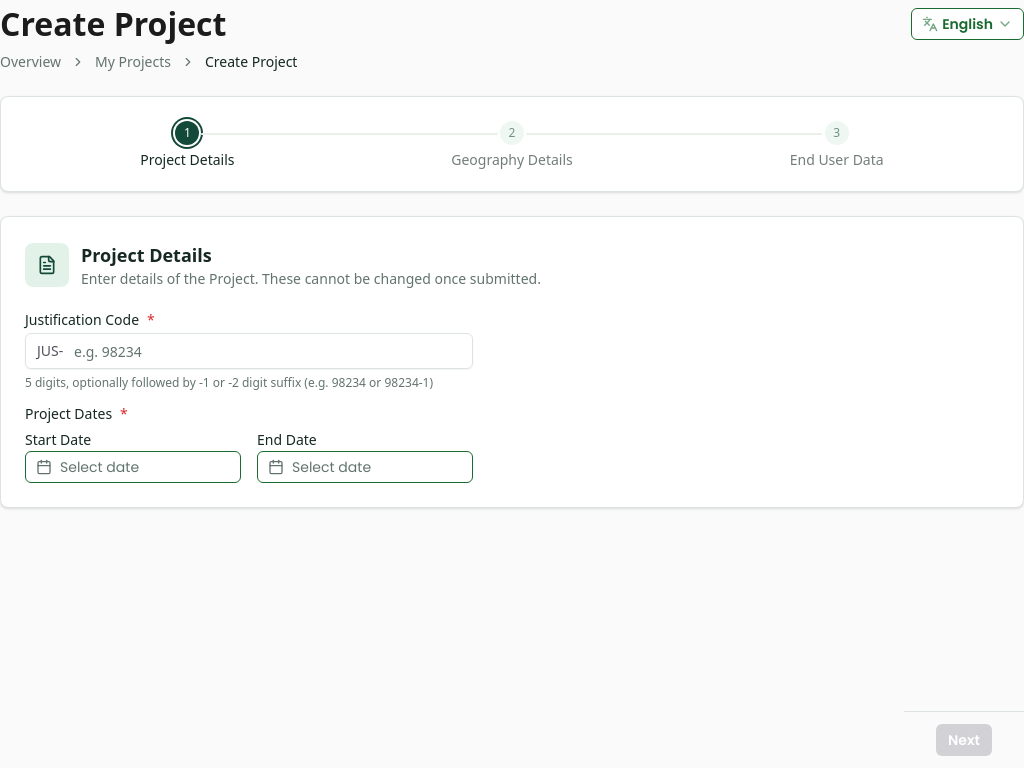
Test: CreateProjectPage › stays on step 1 and shows the error when the justification code is a duplicate
The image size is (1024, 768).
Type "98234" into the field labelled "Justification Code *" at (249, 351), box [25,333,473,369]
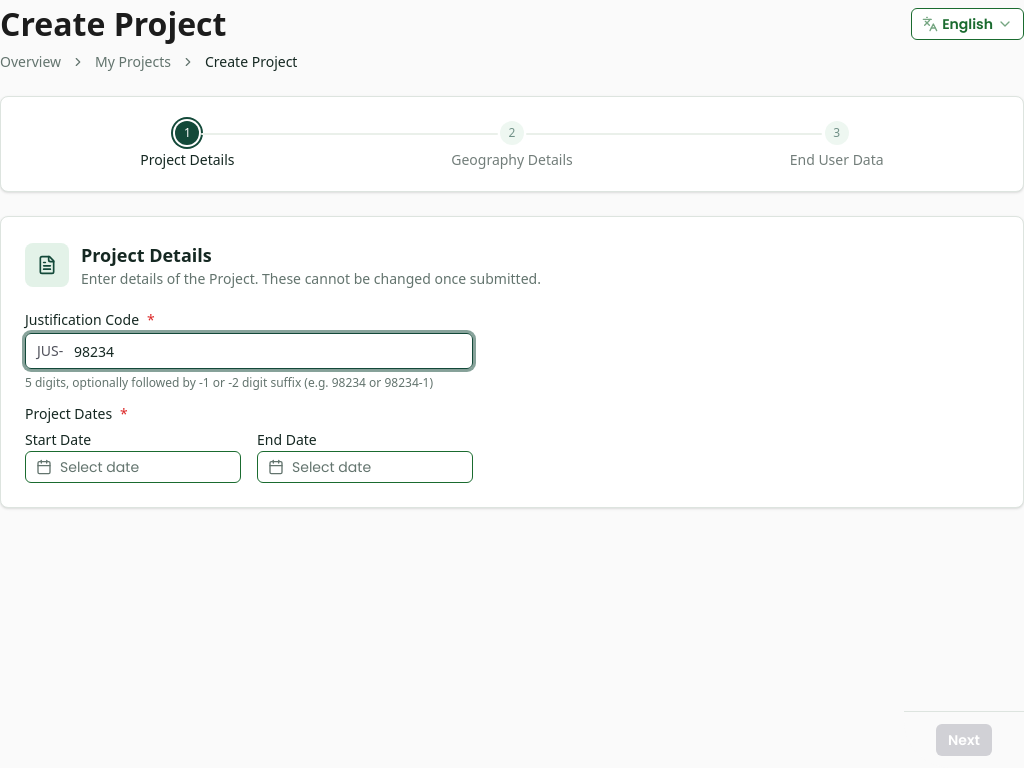
Click the button "Select date" below "Start Date" at (133, 467), box [25,451,241,483]
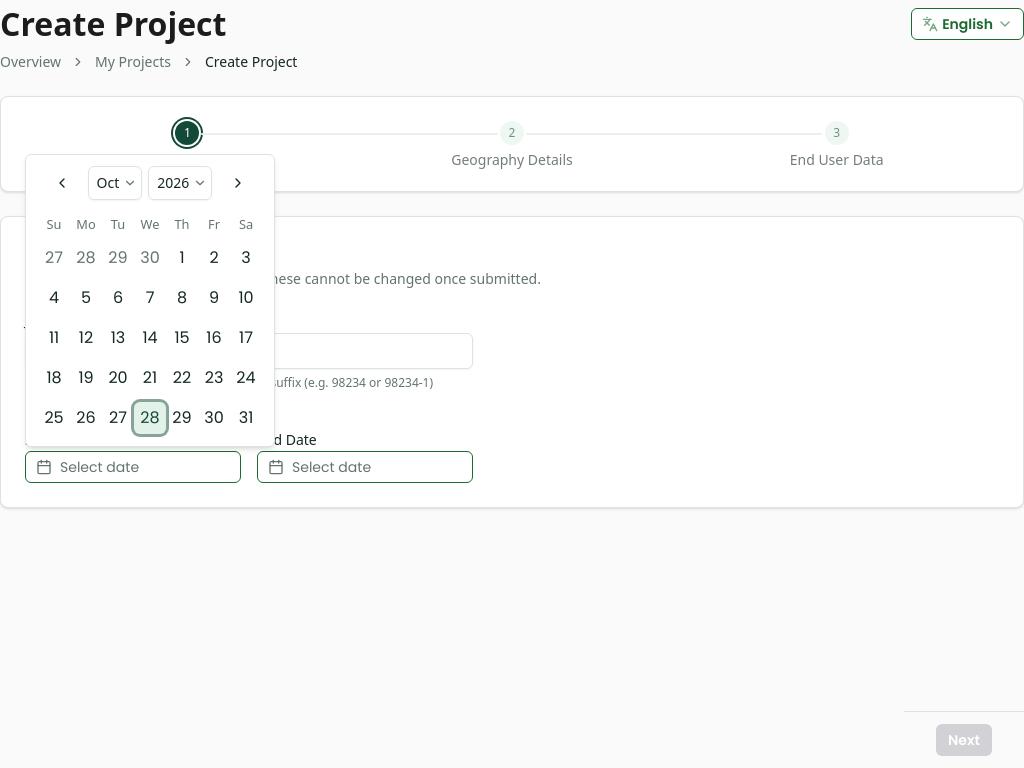
Click the button "10" at (246, 298), box [230,282,262,314]
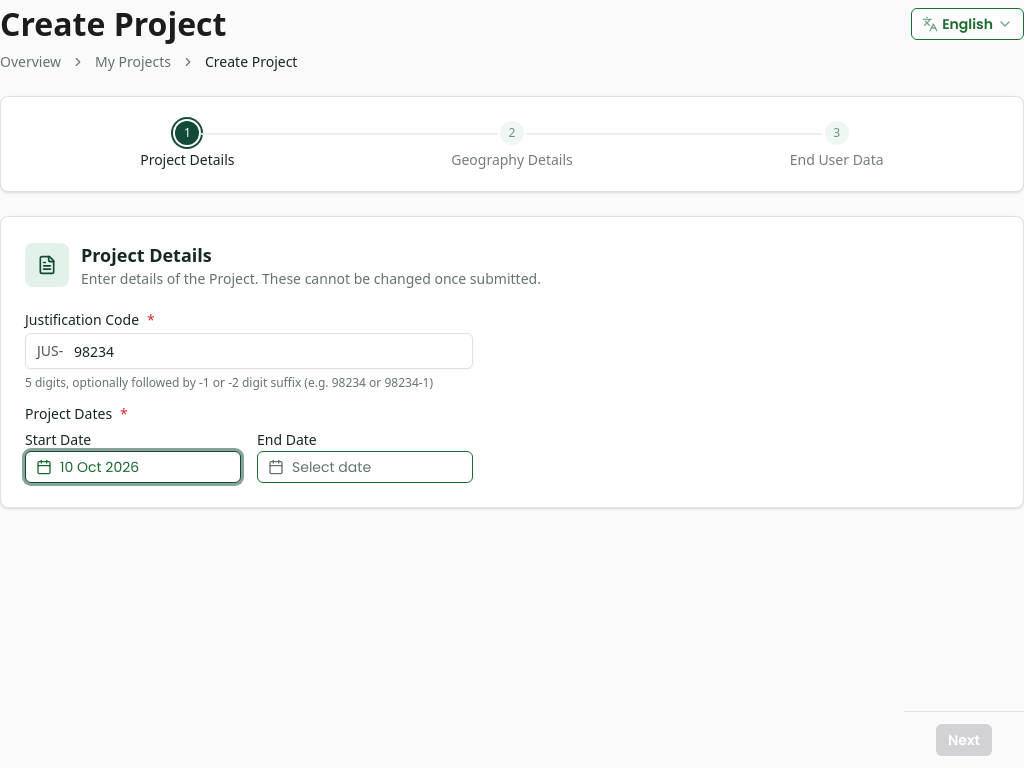
Click the button "Select date" at (365, 467), box [257,451,473,483]
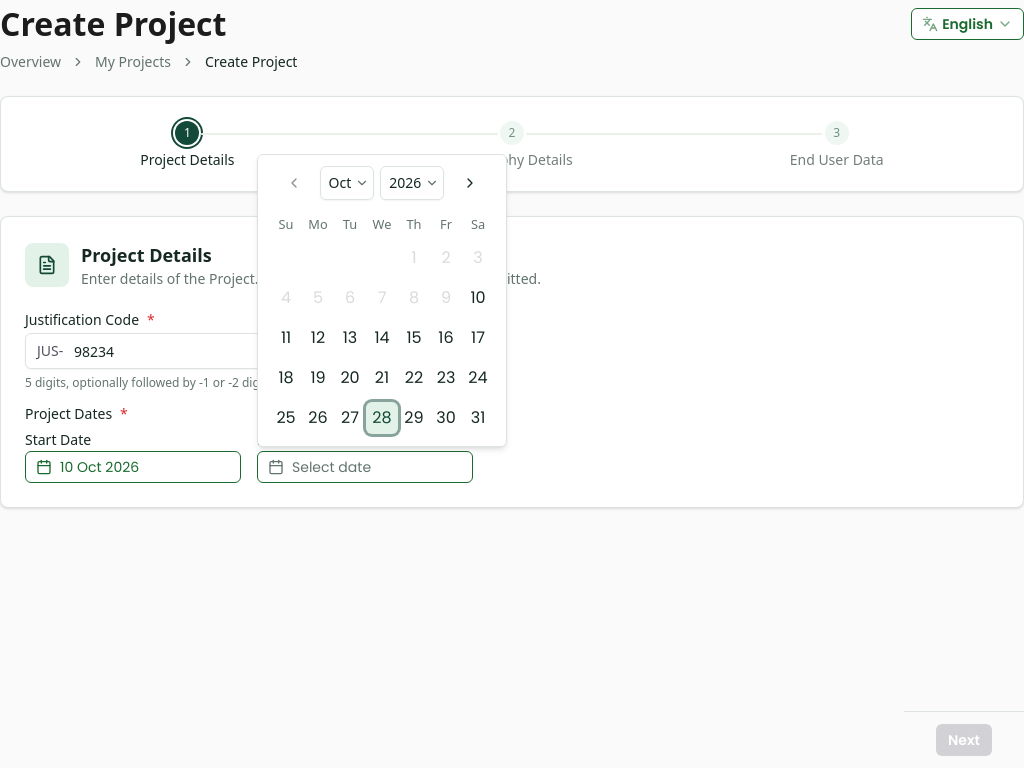
Click the button "20" at (350, 378), box [334,362,366,394]
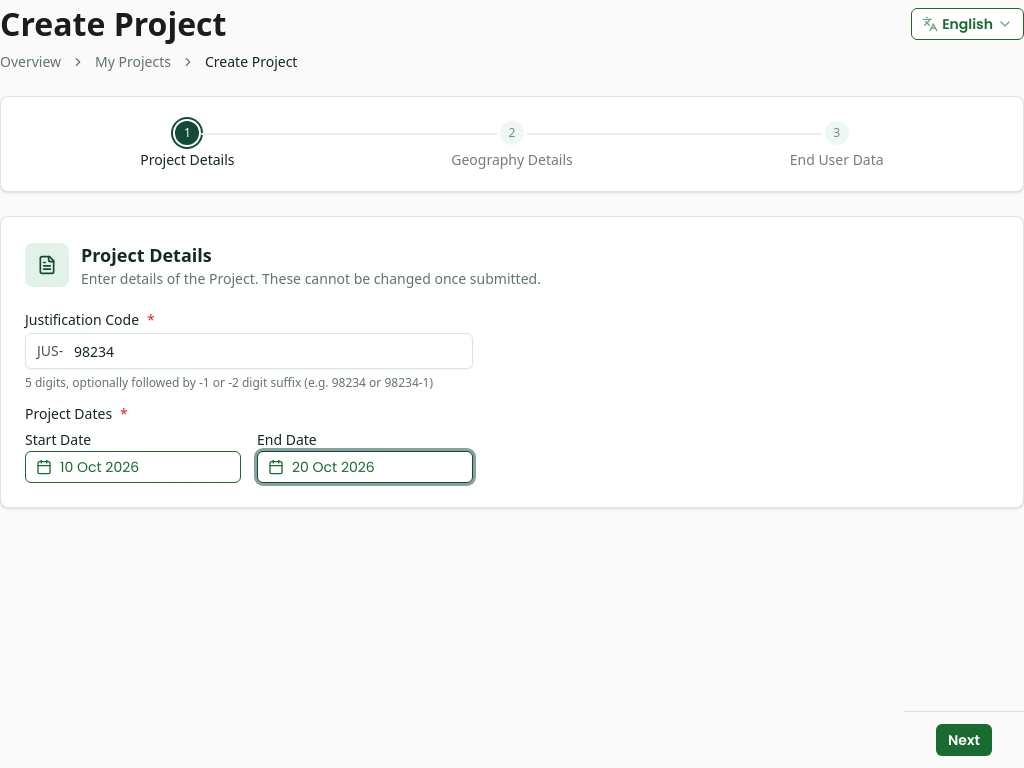
Click the button "Next" at (964, 740), box [936,724,992,756]
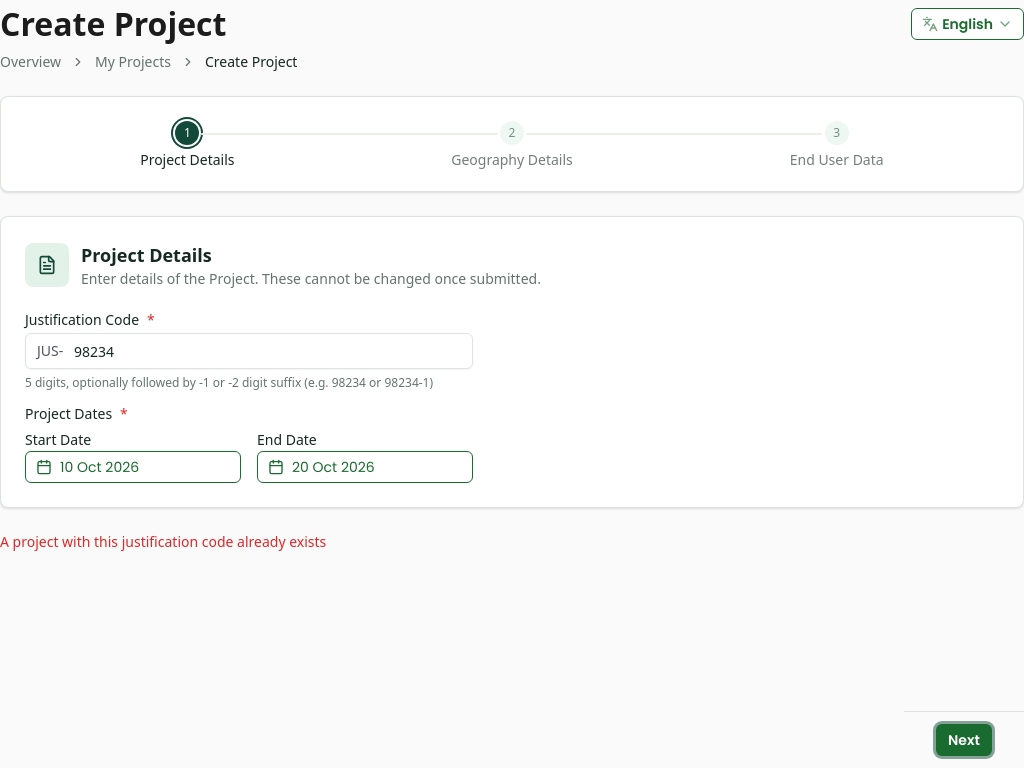
Expected: the text "A project with this justification code already exists" is shown, [0,532,326,551]
